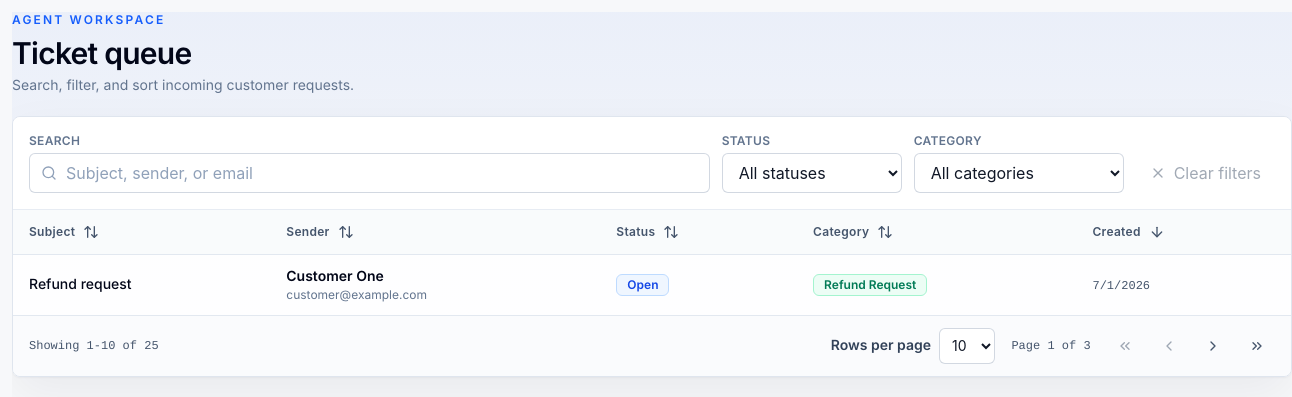
Test: TicketsPage › refetches tickets sorted by a clicked column ascending
The width and height of the screenshot is (1292, 397).
Expected: the text "customer@example.com" is shown, top-left (286, 286), bottom-right (427, 302)
Click the button "Subject" at (64, 232), box top-left (21, 216), bottom-right (107, 248)
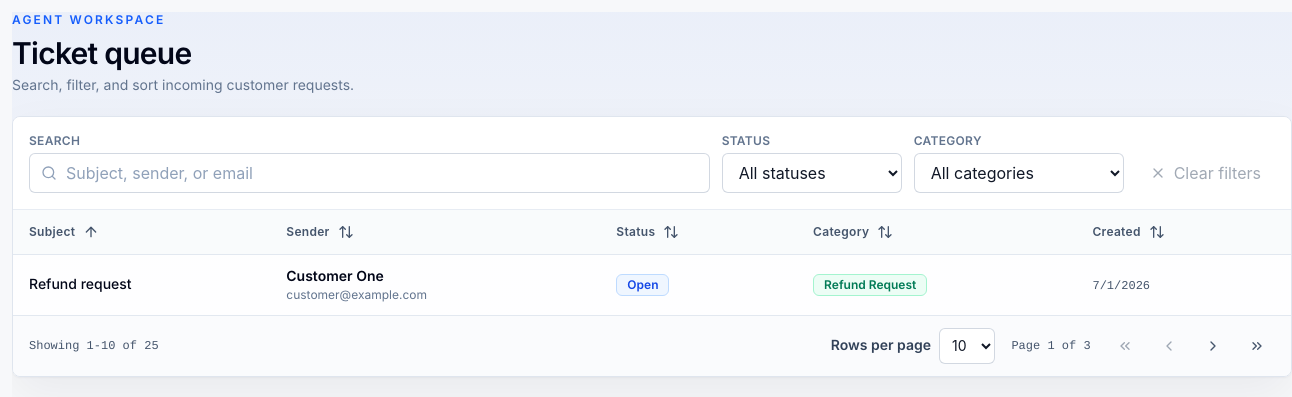
Expected: the button with aria-label "Subject sorted ascending" is shown, top-left (21, 216), bottom-right (107, 248)
